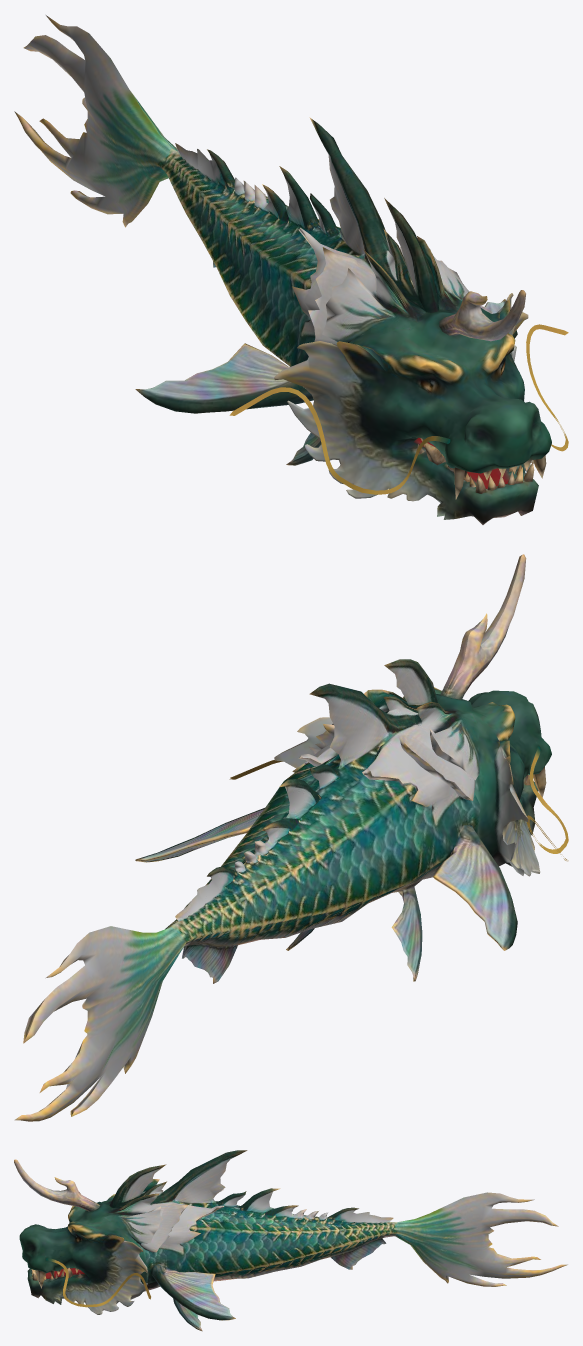
Rendered from 261-chiwen.glb.
3 views of the same model, one above another, from view 1: azimuth 30°, elevation 25°; view 2: azimuth 150°, elevation 25°; view 3: azimuth 270°, elevation 25° (orthographic). The views are drawn at different scales.
Bounding box in the file's own units: 2.5 × 1.96 × 5.99.
Materials: 1 (1 with a texture image).
